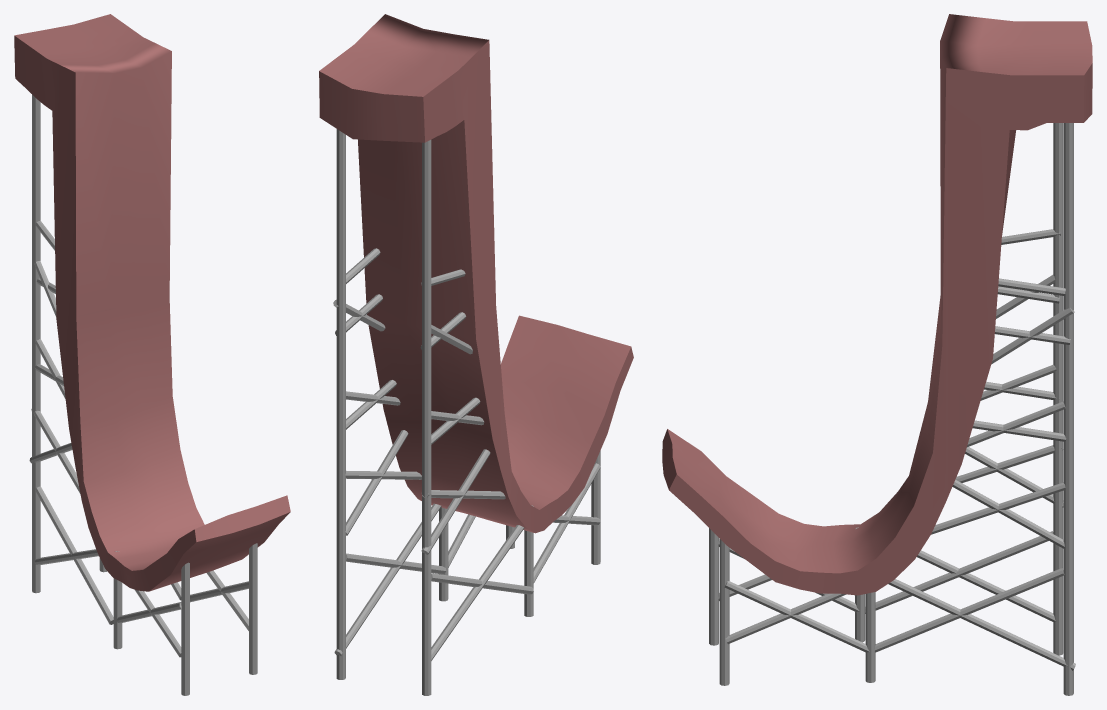
Rendered from j_ramp.fbx.
3 views of the same model, side by side, from view 1: azimuth 30°, elevation 25°; view 2: azimuth 150°, elevation 25°; view 3: azimuth 270°, elevation 25° (orthographic). The views are drawn at different scales.
Parts seen in each view (by area): view 1: j_ramp:lattice1; view 2: j_ramp:lattice1; view 3: j_ramp:lattice1.
Part boxes in pixels (x1,y1,x2,y2): j_ramp:lattice1: (14,14,290,695); j_ramp:lattice1: (319,14,633,695); j_ramp:lattice1: (662,14,1092,695).
Bounding box in the file's own units: 195 × 1014 × 623.
